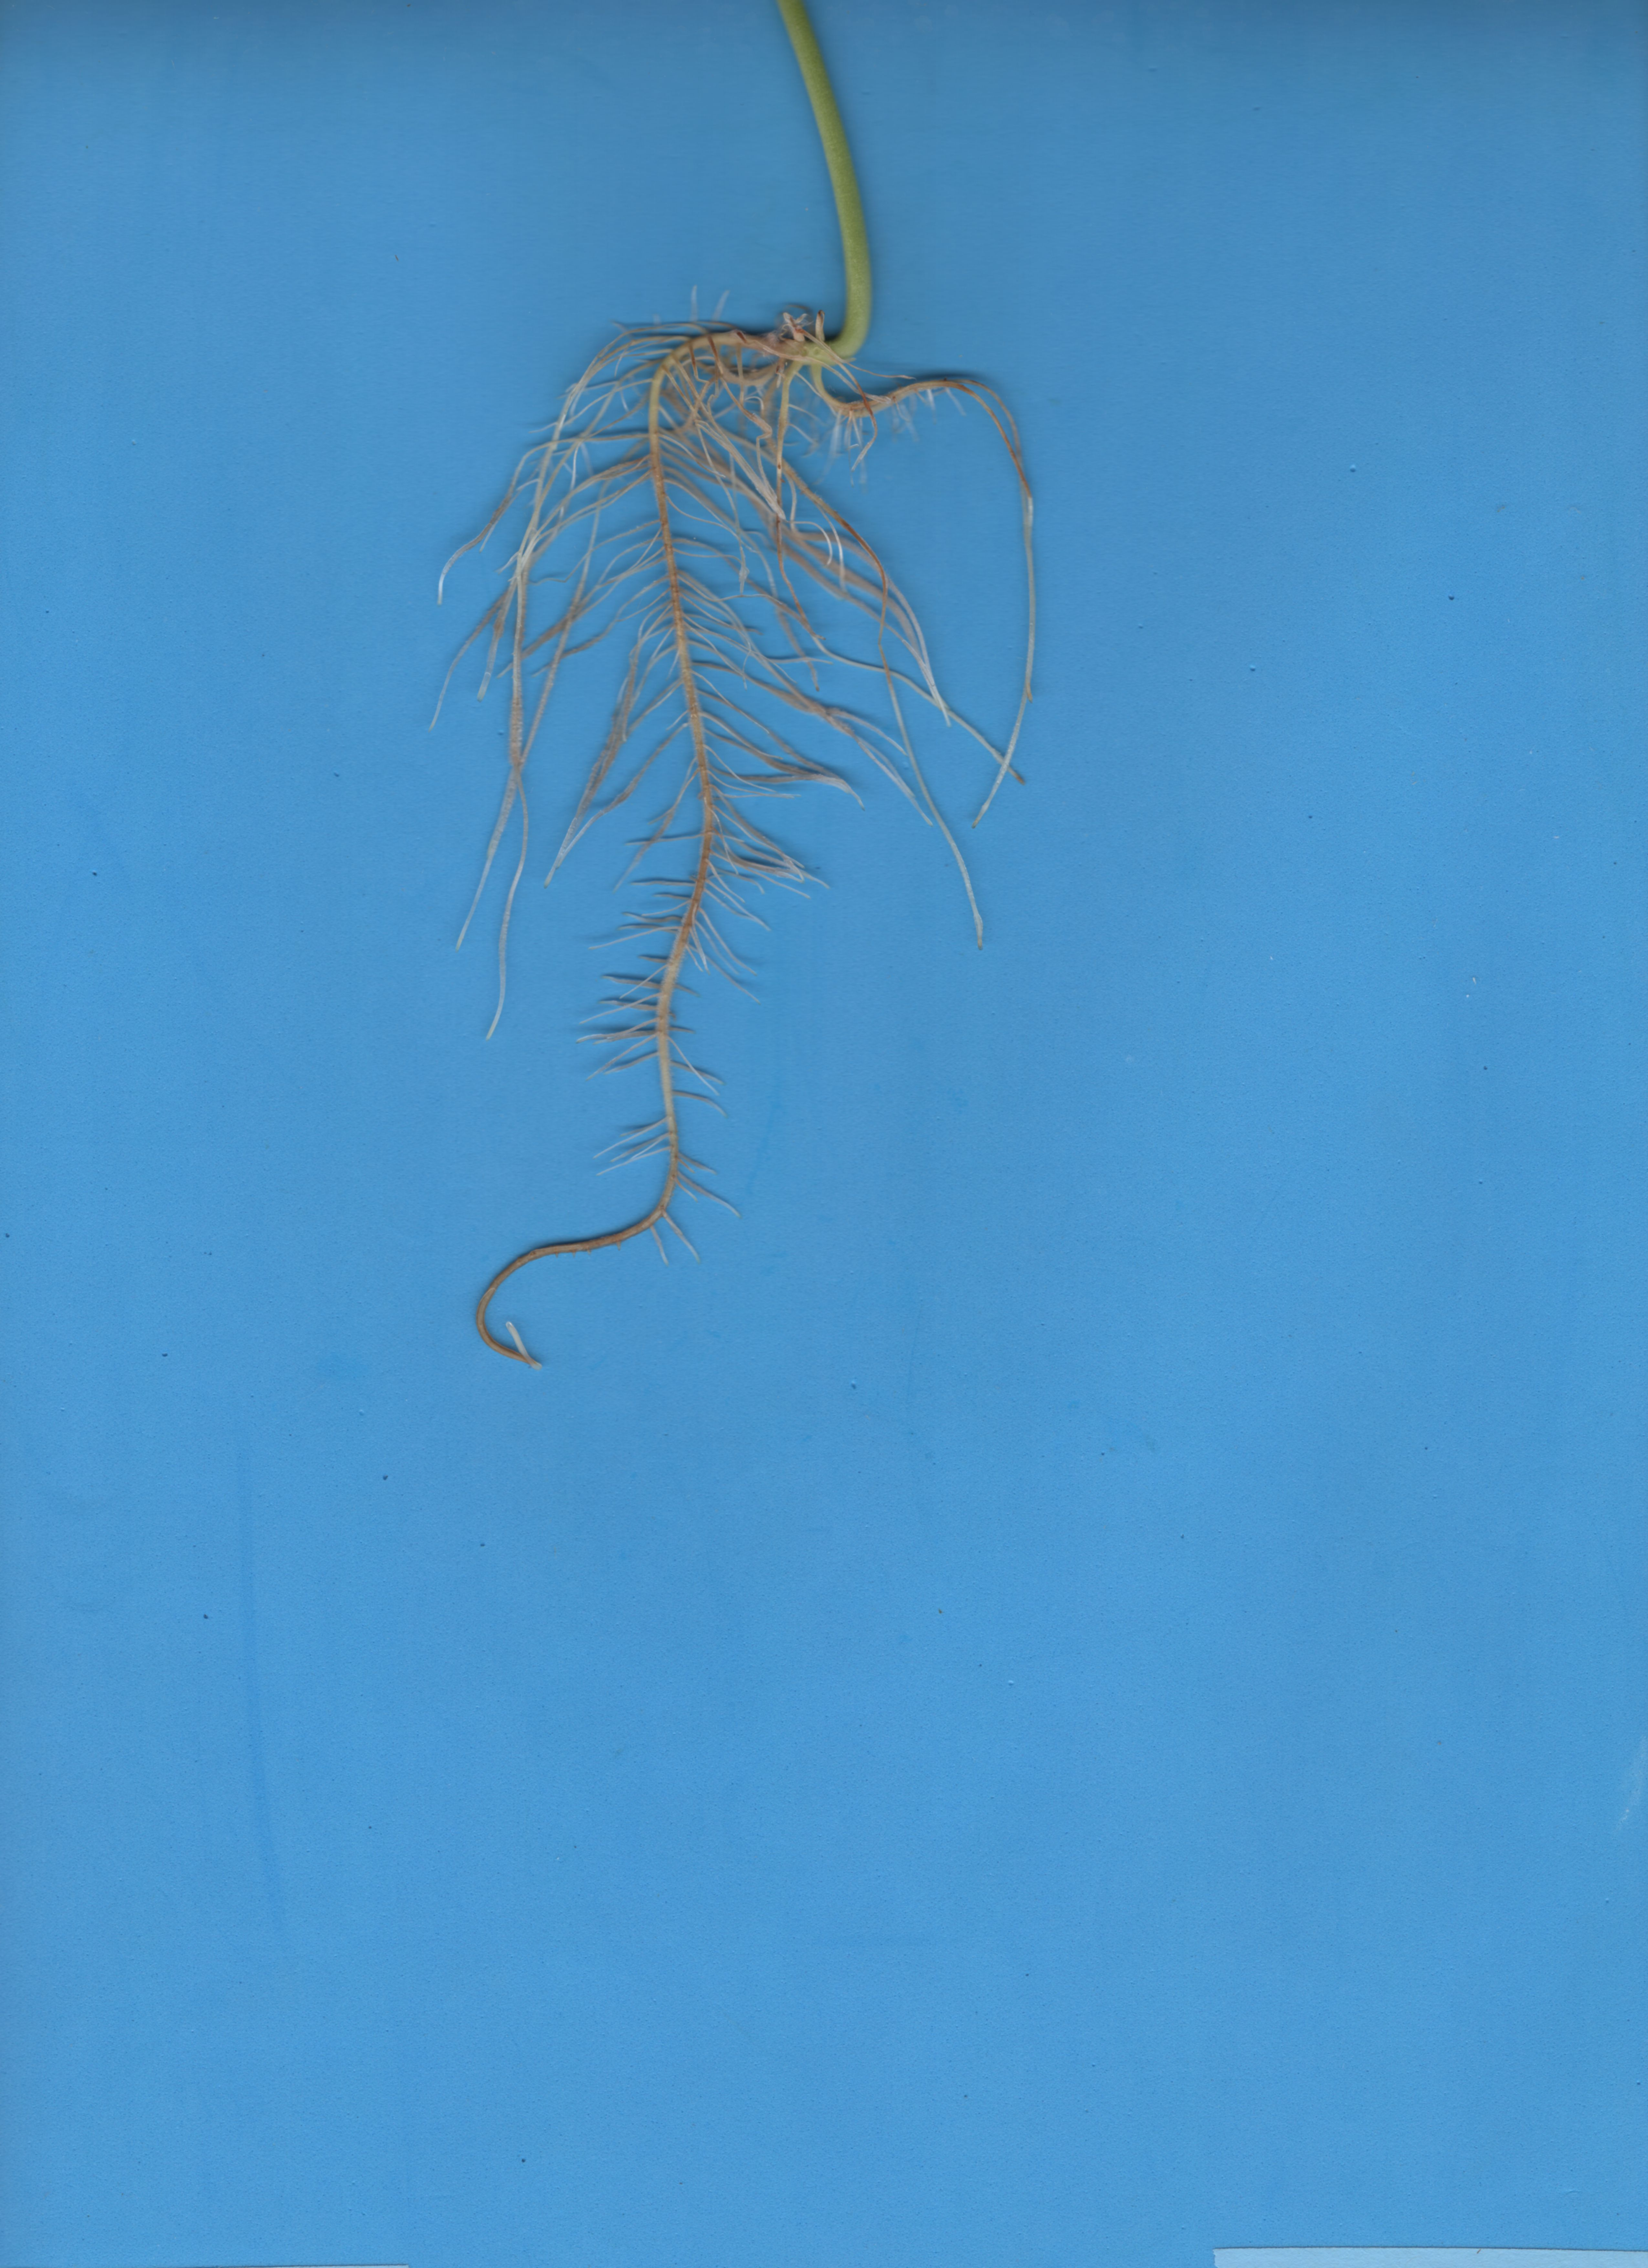CROWNGOOD: (739, 9, 912, 370)
ROOTGOOD: (389, 271, 1106, 1451)
